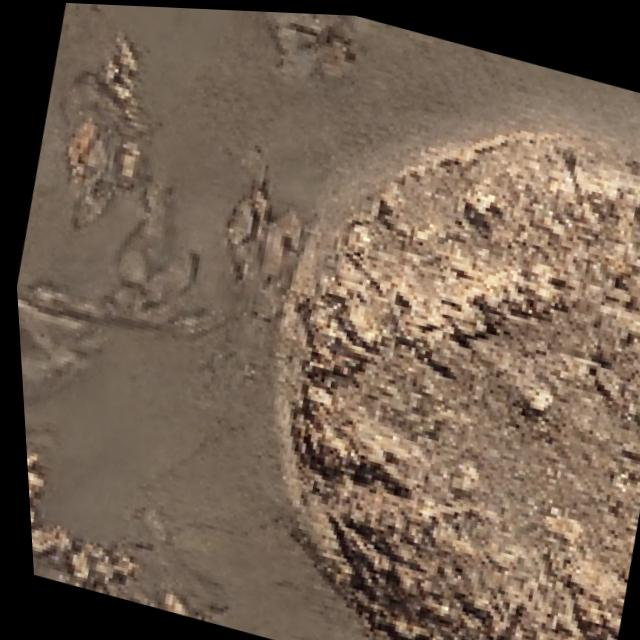Crater: (167, 45, 640, 640)
